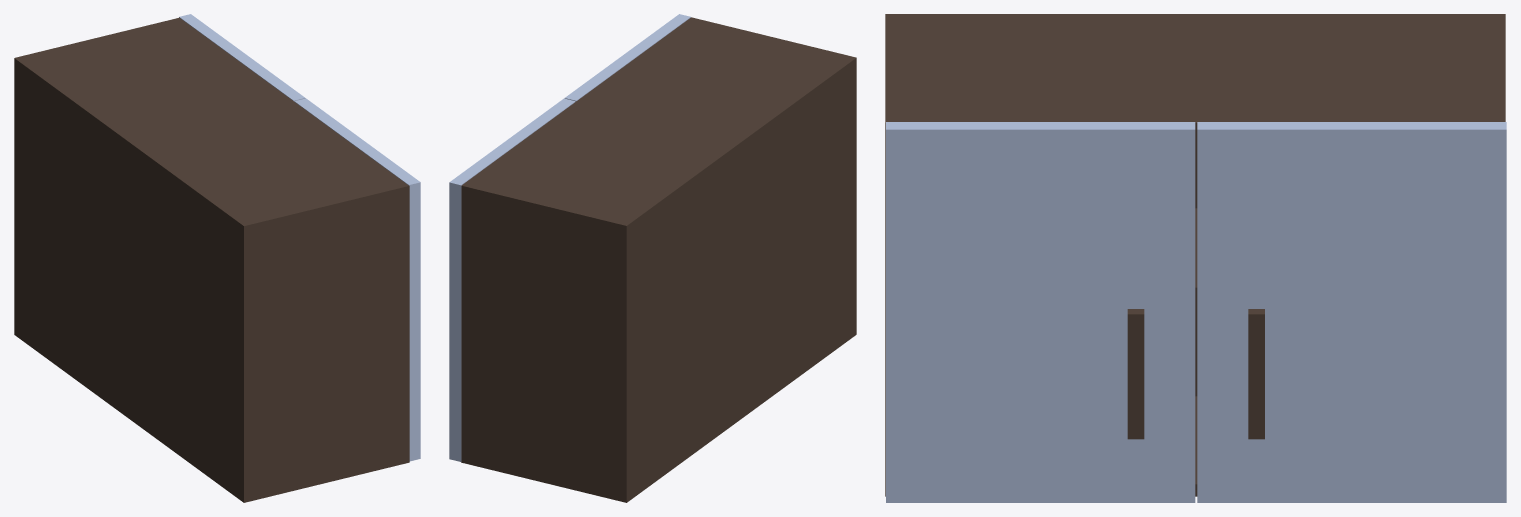
File: HangingCabinetDouble.fbx
The picture shows the model from 3 angles, left to right: view 1: azimuth 30°, elevation 25°; view 2: azimuth 150°, elevation 25°; view 3: azimuth 270°, elevation 25°; orthographic projection. The views are drawn at different scales.
Parts seen in each view (by area): view 1: Hanging Kitchen CabinetBase02, HangingKitchenCabinetDoor02Left, HangingKitchenCabinetDoor02Right; view 2: Hanging Kitchen CabinetBase02, HangingKitchenCabinetDoor02Right, HangingKitchenCabinetDoor02Left; view 3: HangingKitchenCabinetDoor02Left, HangingKitchenCabinetDoor02Right, Hanging Kitchen CabinetBase02.
Boxes of the visible parts, x1,y1,x2,y2 form: Hanging Kitchen CabinetBase02: [14, 17, 409, 502]; HangingKitchenCabinetDoor02Left: [294, 98, 420, 461]; HangingKitchenCabinetDoor02Right: [179, 14, 305, 101]; Hanging Kitchen CabinetBase02: [461, 17, 856, 502]; HangingKitchenCabinetDoor02Right: [449, 98, 575, 461]; HangingKitchenCabinetDoor02Left: [564, 14, 690, 101]; HangingKitchenCabinetDoor02Left: [886, 122, 1195, 502]; HangingKitchenCabinetDoor02Right: [1197, 122, 1506, 502]; Hanging Kitchen CabinetBase02: [885, 14, 1505, 496].
Bounding box in the file's own units: 140 × 200 × 301.
